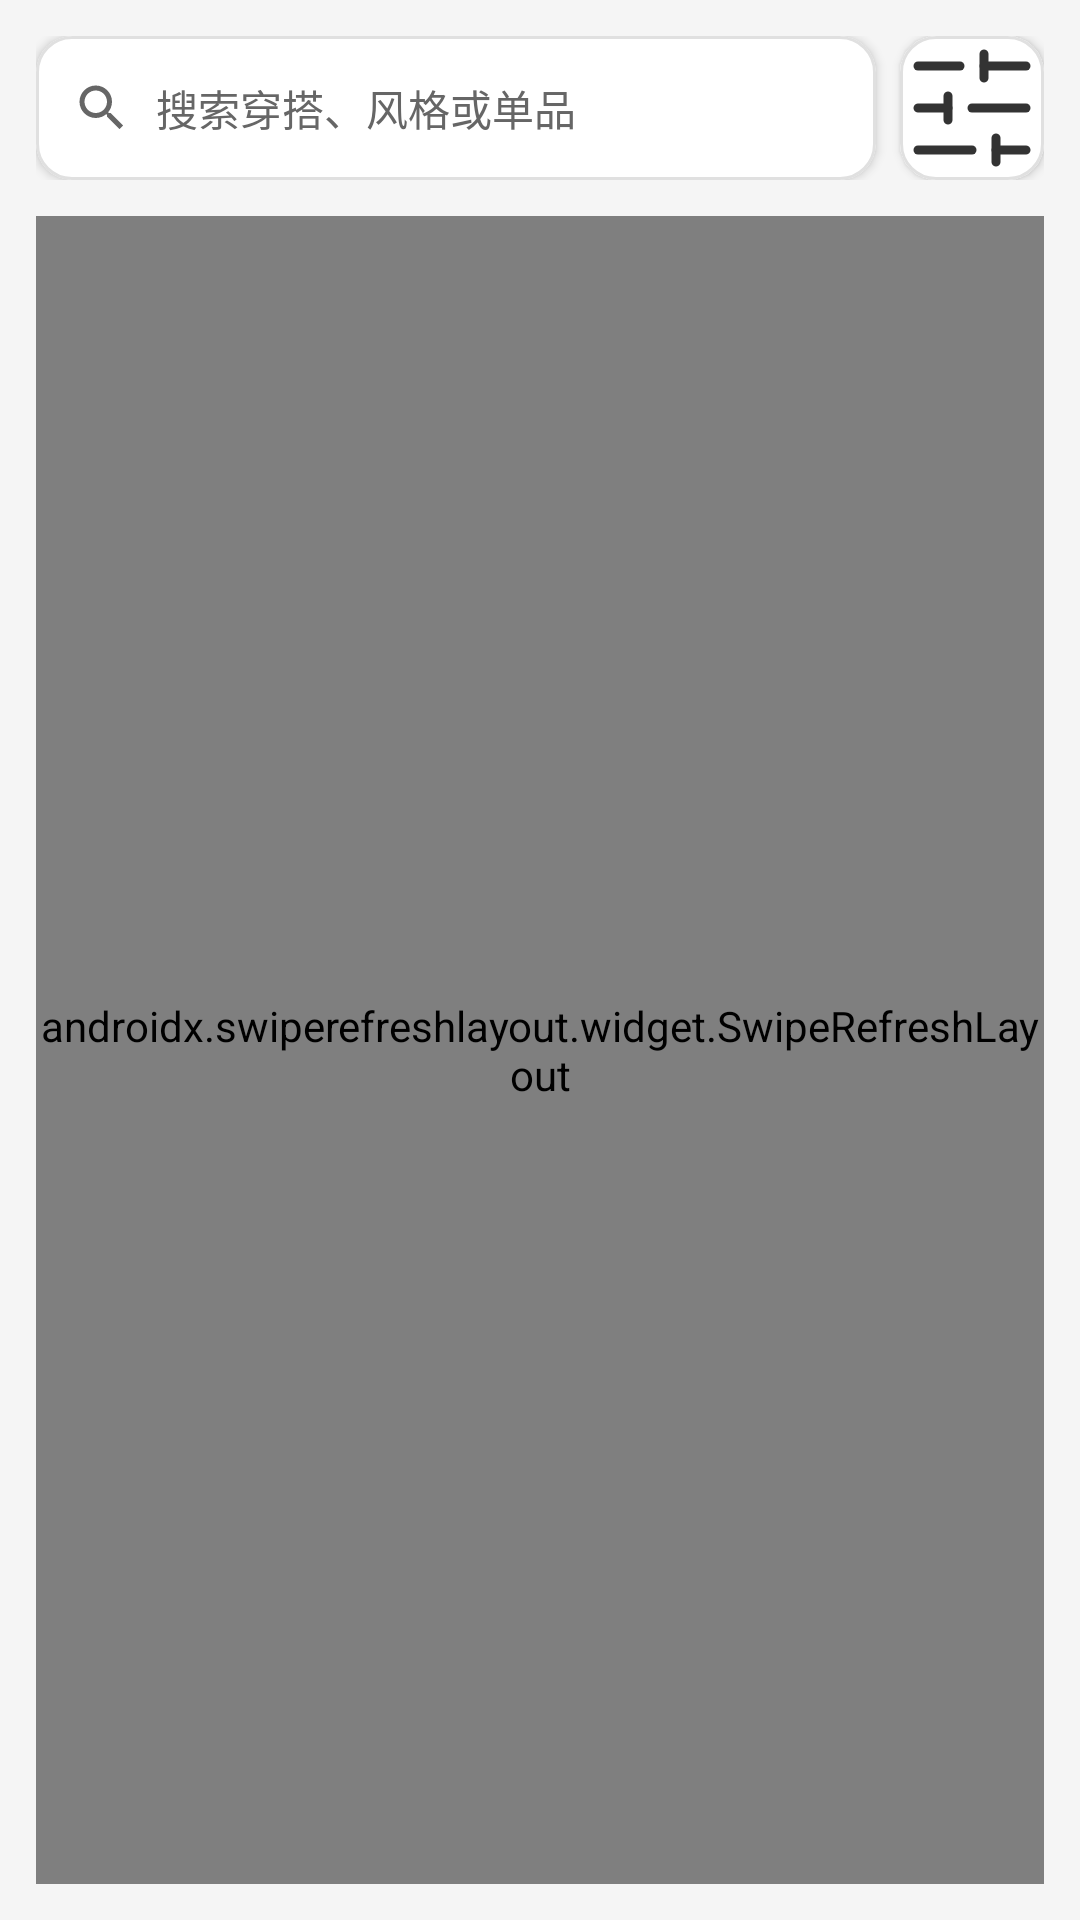

Screen size 1080px x 1920px. Icon name, then its center in pixels as point (x, y):
filter: point (972, 108)
